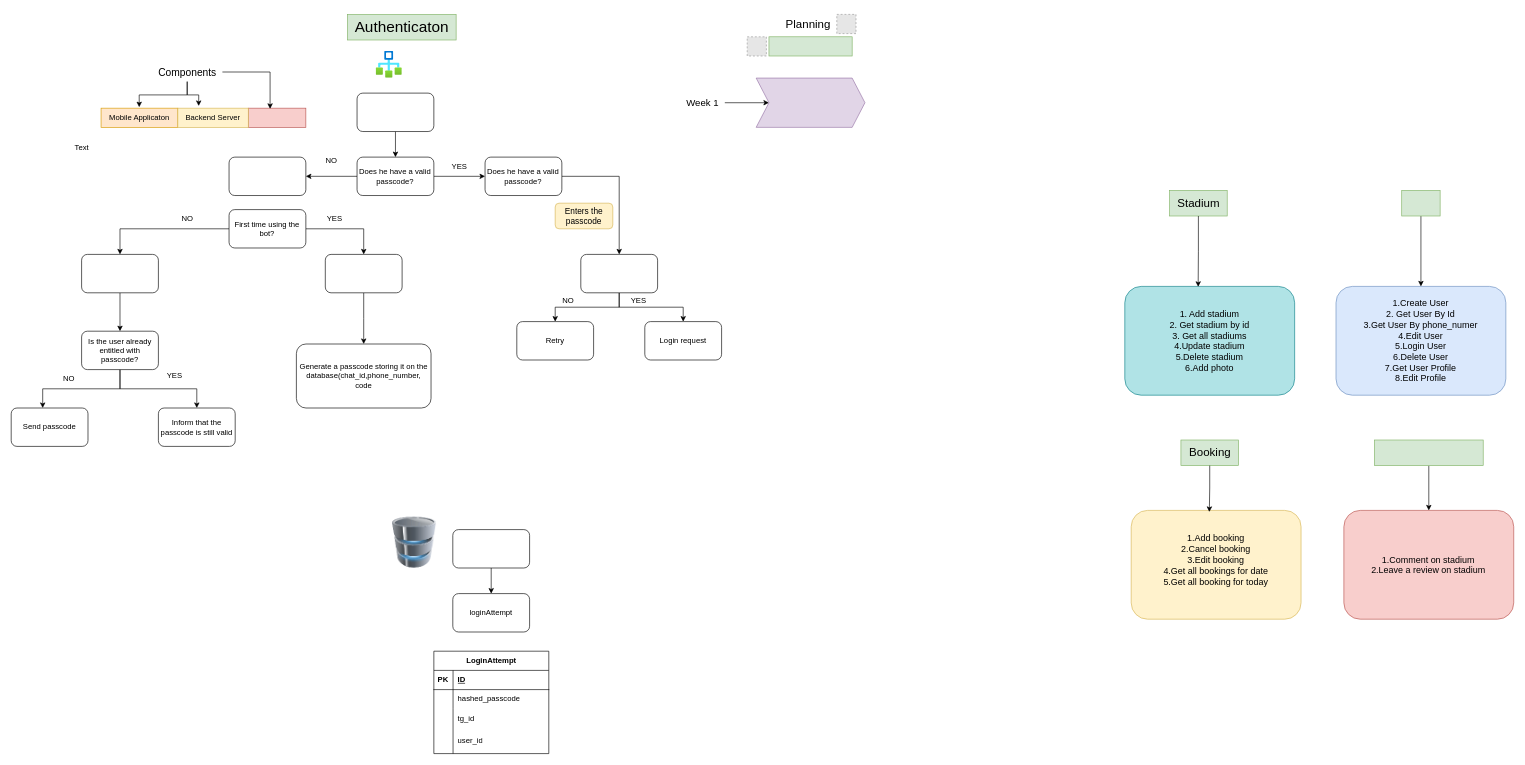
This 1525x765 diagram has some shape labels left out. Grey dashed boxes stand in for pictures. The centre of each missing label's shape, as x and y in pixels:
Authentication Database Schema: (x=810, y=102)
Databse: (x=491, y=548)
Exam Date: May 15: (x=810, y=46)
Forward to the bot: (x=267, y=176)
Input the user for a phone number(contact share): (x=363, y=273)
is the passcode valid with the given user(backend)?: (x=619, y=273)
Review&Comment: (x=1428, y=452)
Telegram bot: (x=277, y=117)
The user go the app login apge: (x=395, y=112)
The user send the /login command: (x=119, y=273)
User: (x=1420, y=203)
